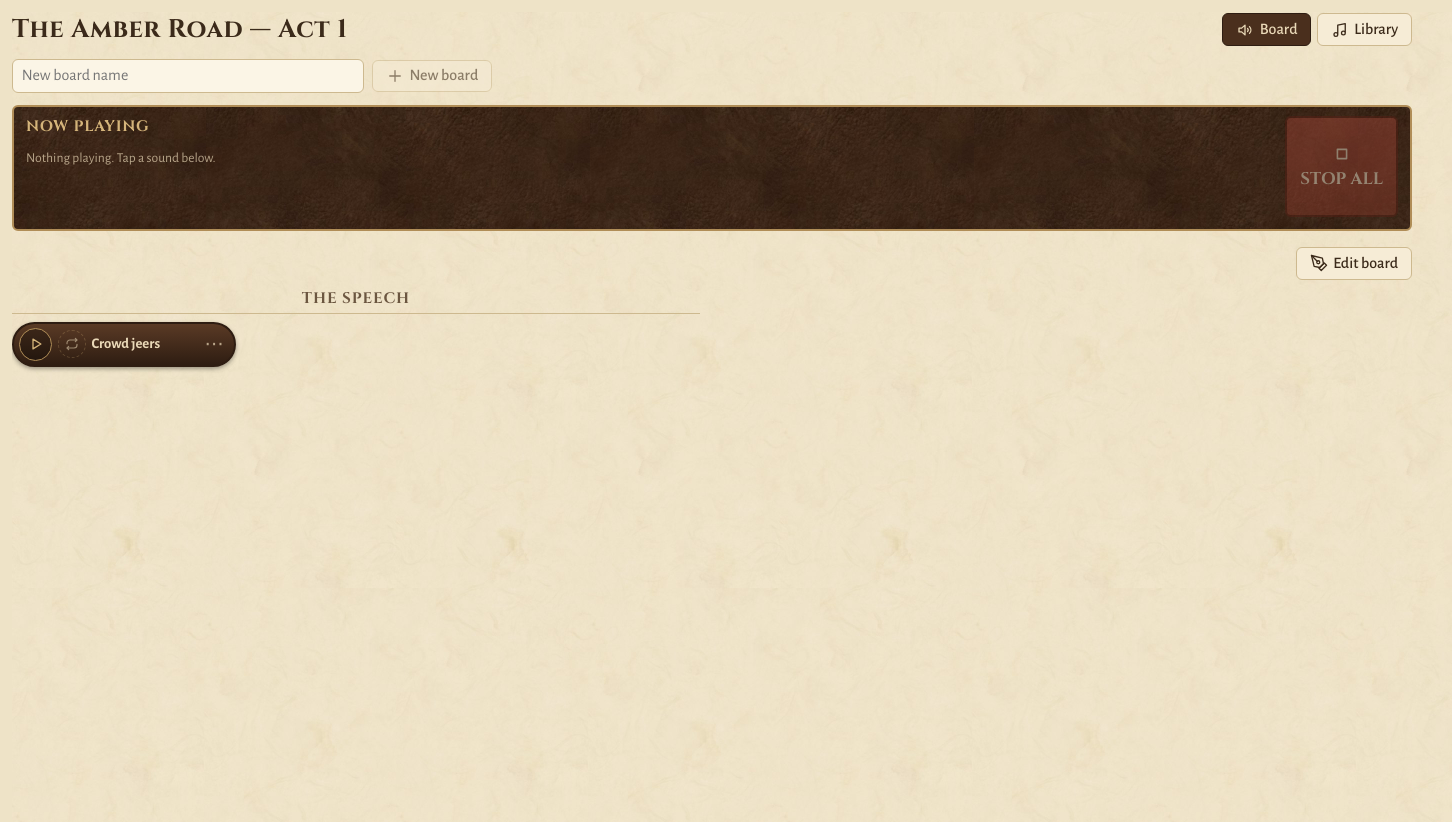
Scenario: tap plays, shows it in Now Playing with a progress ring and volume; tap again stops
Expected: the heading "The Amber Road — Act 1" is shown, [12, 12, 348, 47]
Click the button named "Crowd jeers" at point(33, 344), box [14, 324, 52, 365]
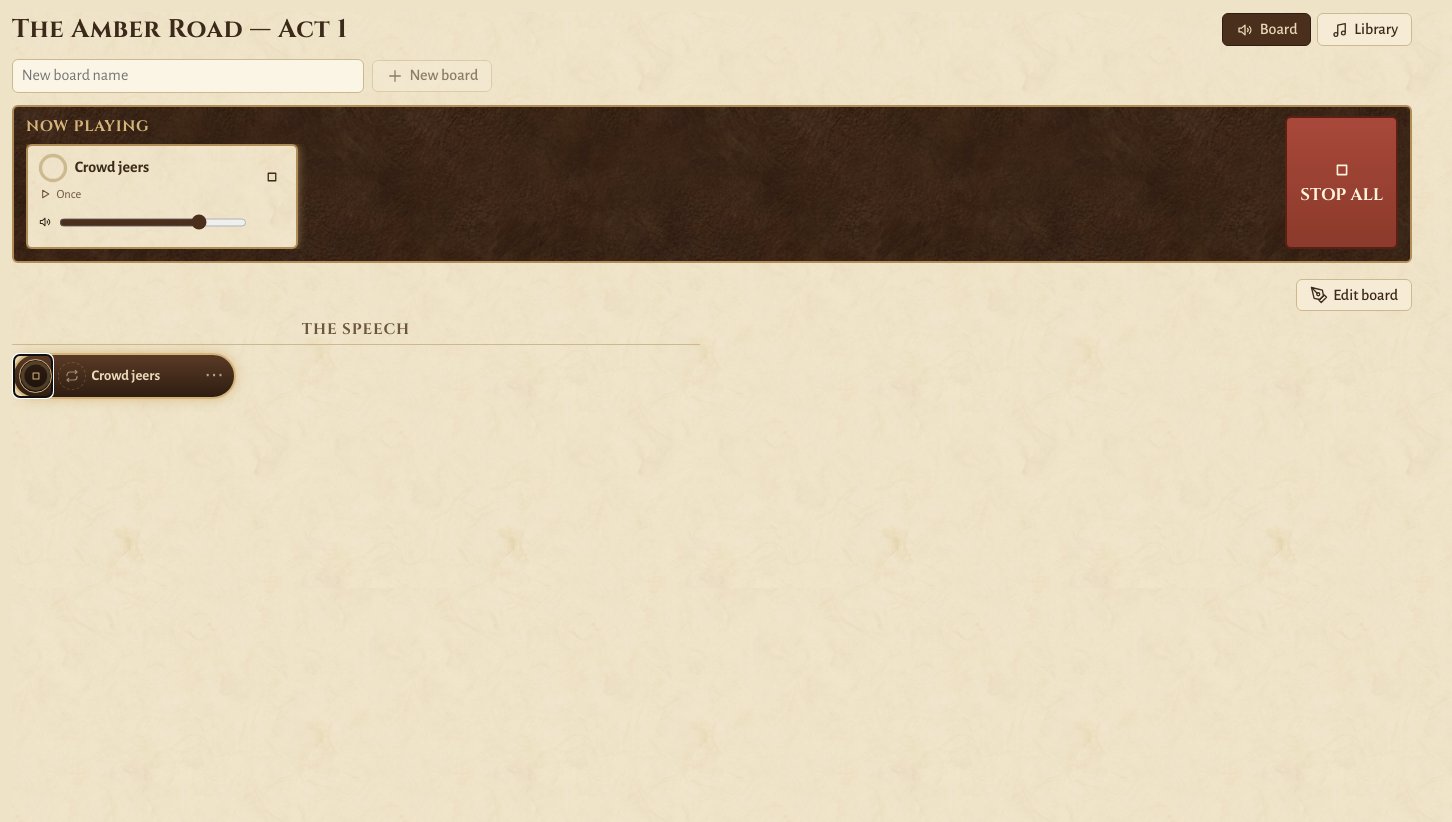
Expected: the text "Crowd jeers" below "Now playing" is shown, [75, 160, 149, 176]
Expected: the slider named "Crowd jeers volume" holds "0.8", [59, 207, 247, 238]
Expected: the text "Once" is shown, [38, 187, 81, 201]
Click the button named "Crowd jeers" at point(33, 376), box [14, 355, 52, 397]
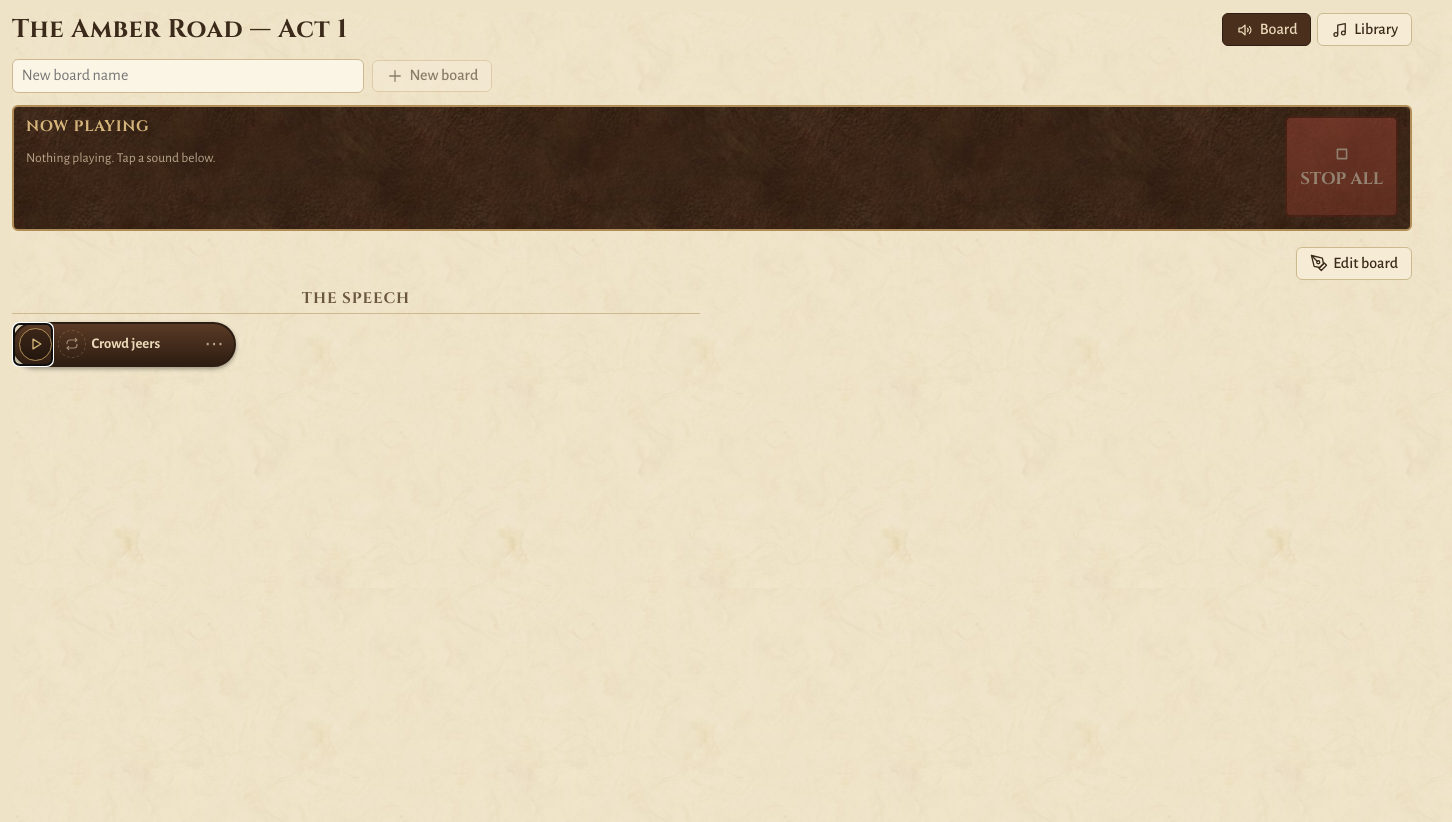
Expected: the text "Nothing playing. Tap a sound below." is shown, [26, 151, 216, 165]
